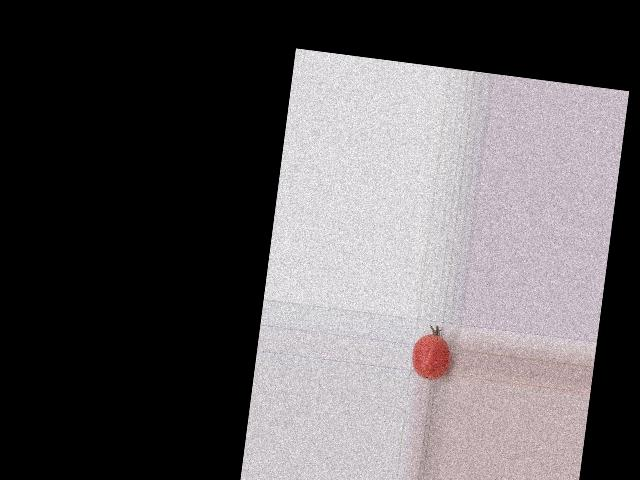tomato: (409, 332, 452, 382)
